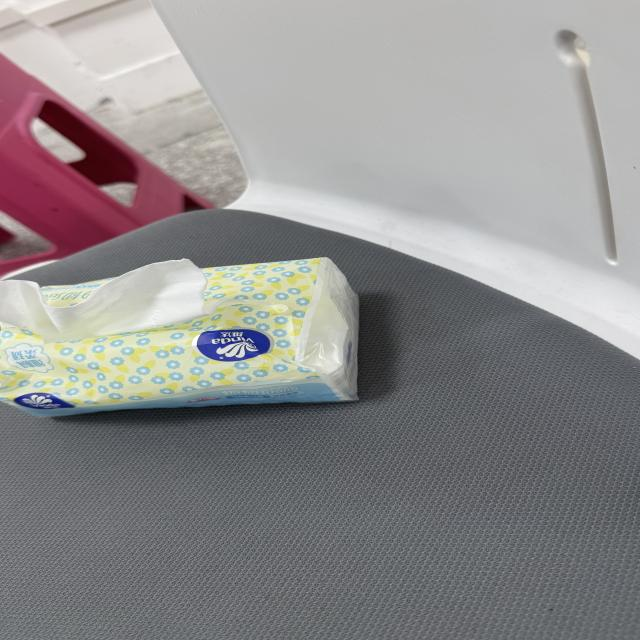tissue: (0, 259, 357, 415), (0, 260, 206, 342)
